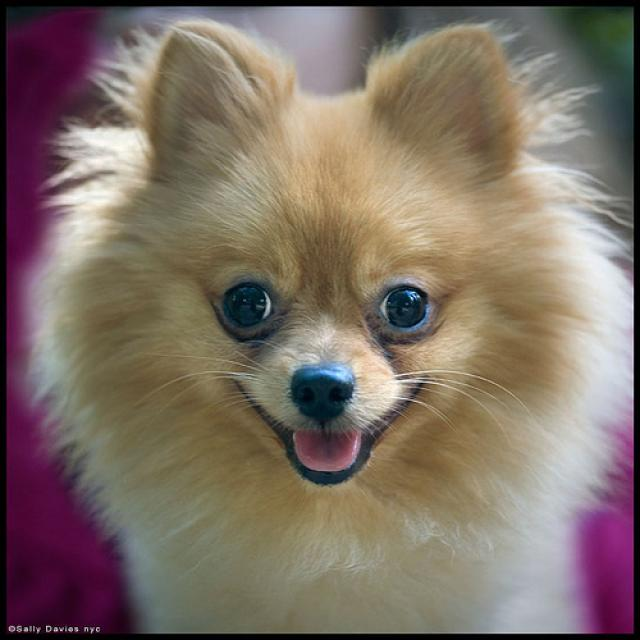dog-pomeranian: (17, 5, 637, 637)
